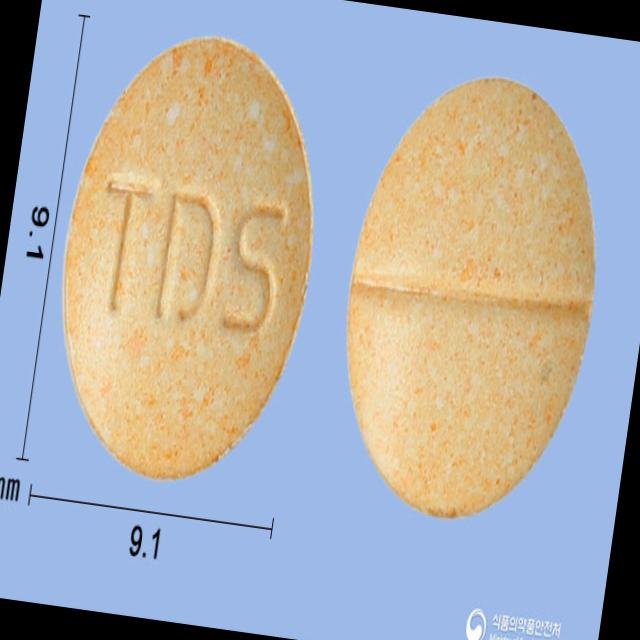Doxiendi: (38, 19, 342, 494)
